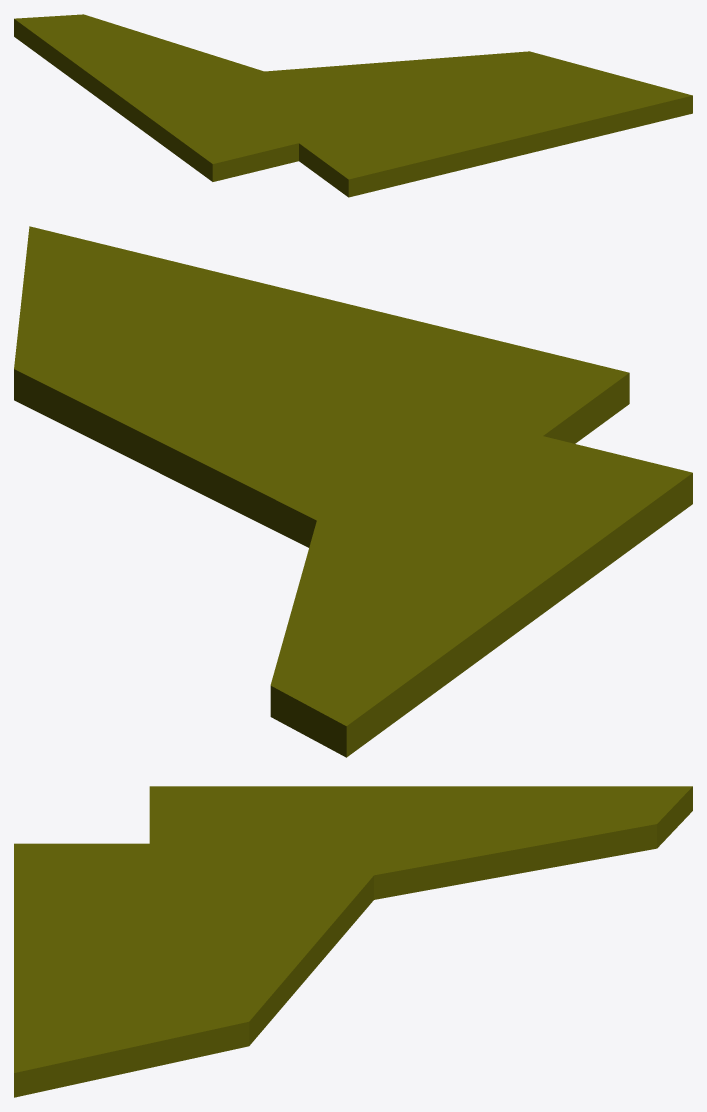
File: x_0_boloto_20_1_rmstrd.fbx
3 renders of one model, top to bottom at view 1: azimuth 30°, elevation 25°; view 2: azimuth 150°, elevation 25°; view 3: azimuth 270°, elevation 25°, orthographic. The views are drawn at different scales.
Parts seen in each view (by area): view 1: x_0_boloto_20_1_rmstrd1; view 2: x_0_boloto_20_1_rmstrd1; view 3: x_0_boloto_20_1_rmstrd1.
Part boxes in pixels (bbox=[...]): x_0_boloto_20_1_rmstrd1: bbox=[14, 14, 692, 197]; x_0_boloto_20_1_rmstrd1: bbox=[14, 226, 692, 757]; x_0_boloto_20_1_rmstrd1: bbox=[14, 786, 692, 1097].
Bounding box in the file's own units: 5 × 0.2 × 5.
